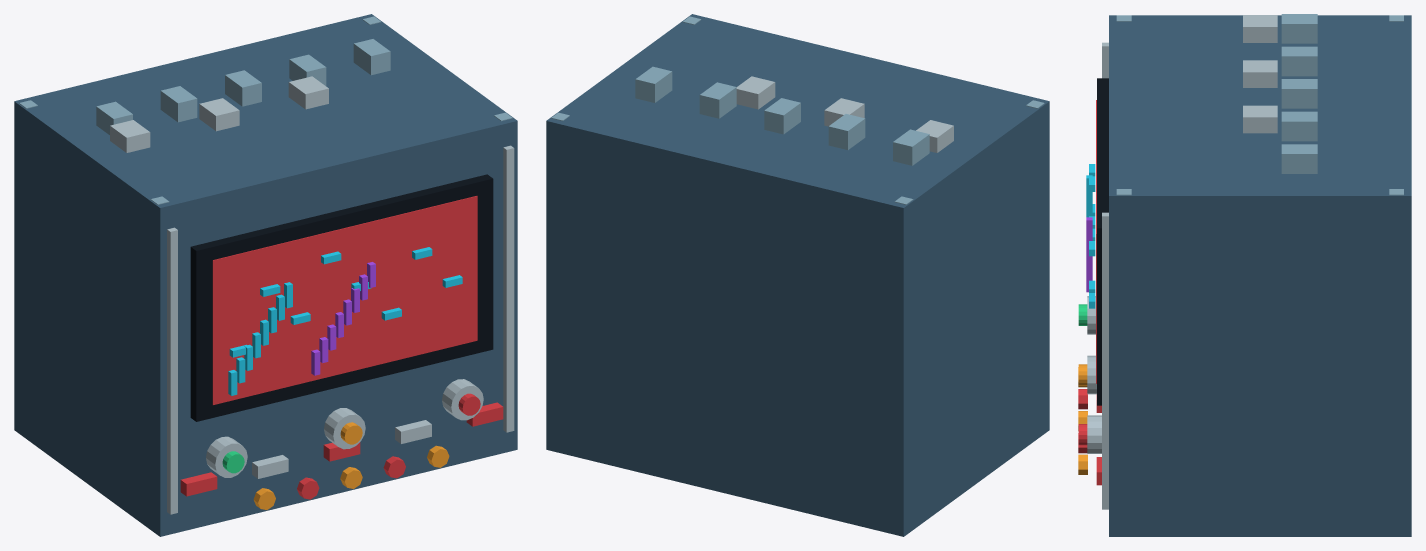
The model's file is 41_L72_ReactantOverlapMonitor.fbx.
3 renders of one model, left to right at view 1: azimuth 30°, elevation 25°; view 2: azimuth 150°, elevation 25°; view 3: azimuth 270°, elevation 25°, orthographic. The views are drawn at different scales.
Visible parts, largest first — view 1: ReactantOverlapMonitor; view 2: ReactantOverlapMonitor; view 3: ReactantOverlapMonitor.
Boxes of the visible parts, left/top/right/bottom form: ReactantOverlapMonitor: left=14, top=14, right=517, bottom=536; ReactantOverlapMonitor: left=546, top=14, right=1049, bottom=536; ReactantOverlapMonitor: left=1078, top=14, right=1411, bottom=536.
Size of the model in its own units: 99 by 92.05 by 77.1.
